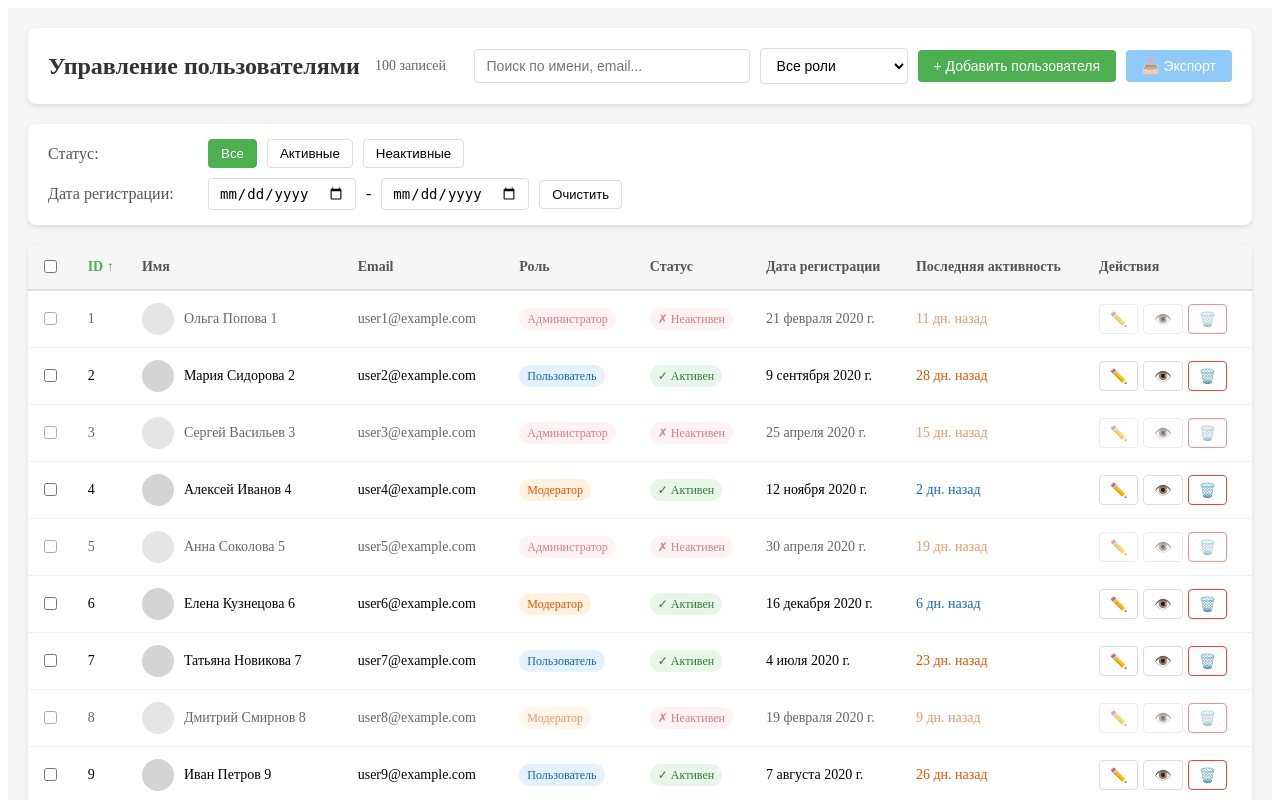
UserTable › Поиск › должен показать сообщение "Нет данных" при отсутствии результатов
Step 1. Type "НесуществующееИмя12345" into the field with class "search-input" → (612, 66), box [474,49,750,83]
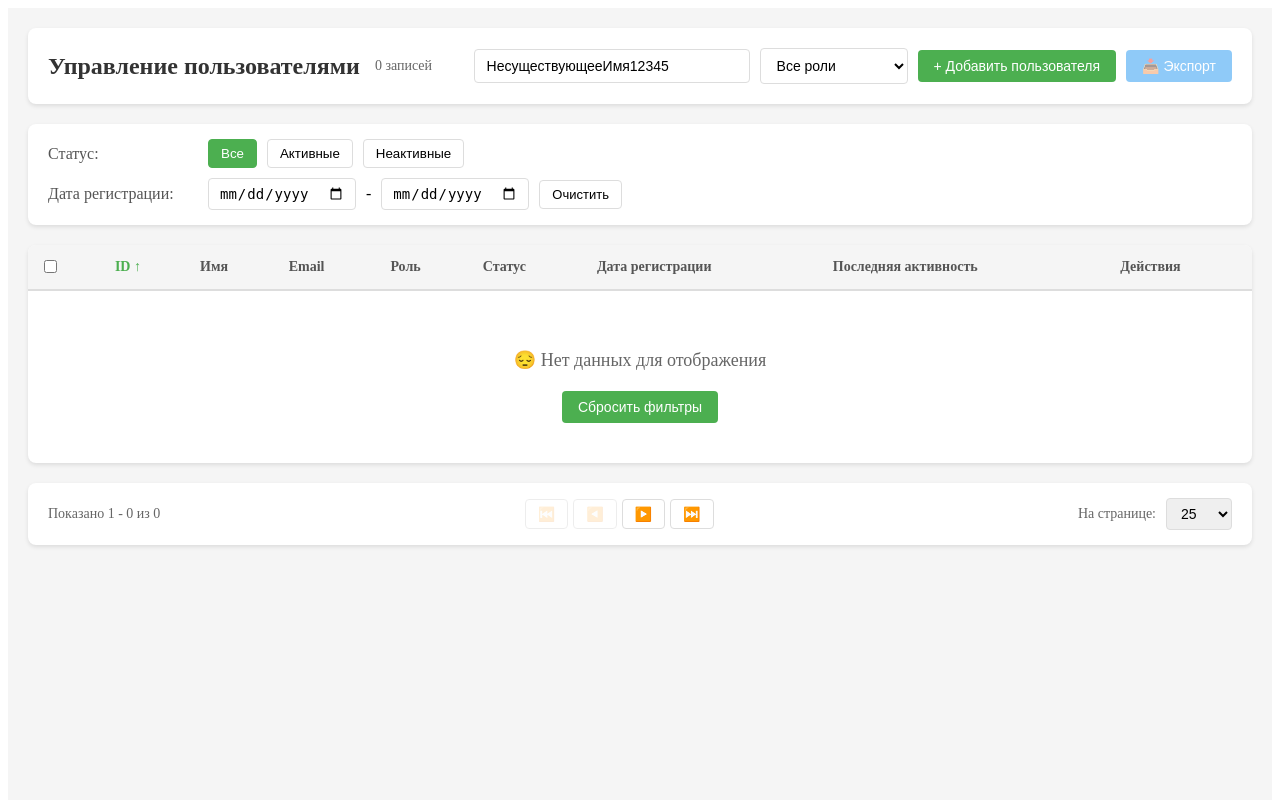
Check: the element with class "no-data" is shown, box [514,350,766,423]
